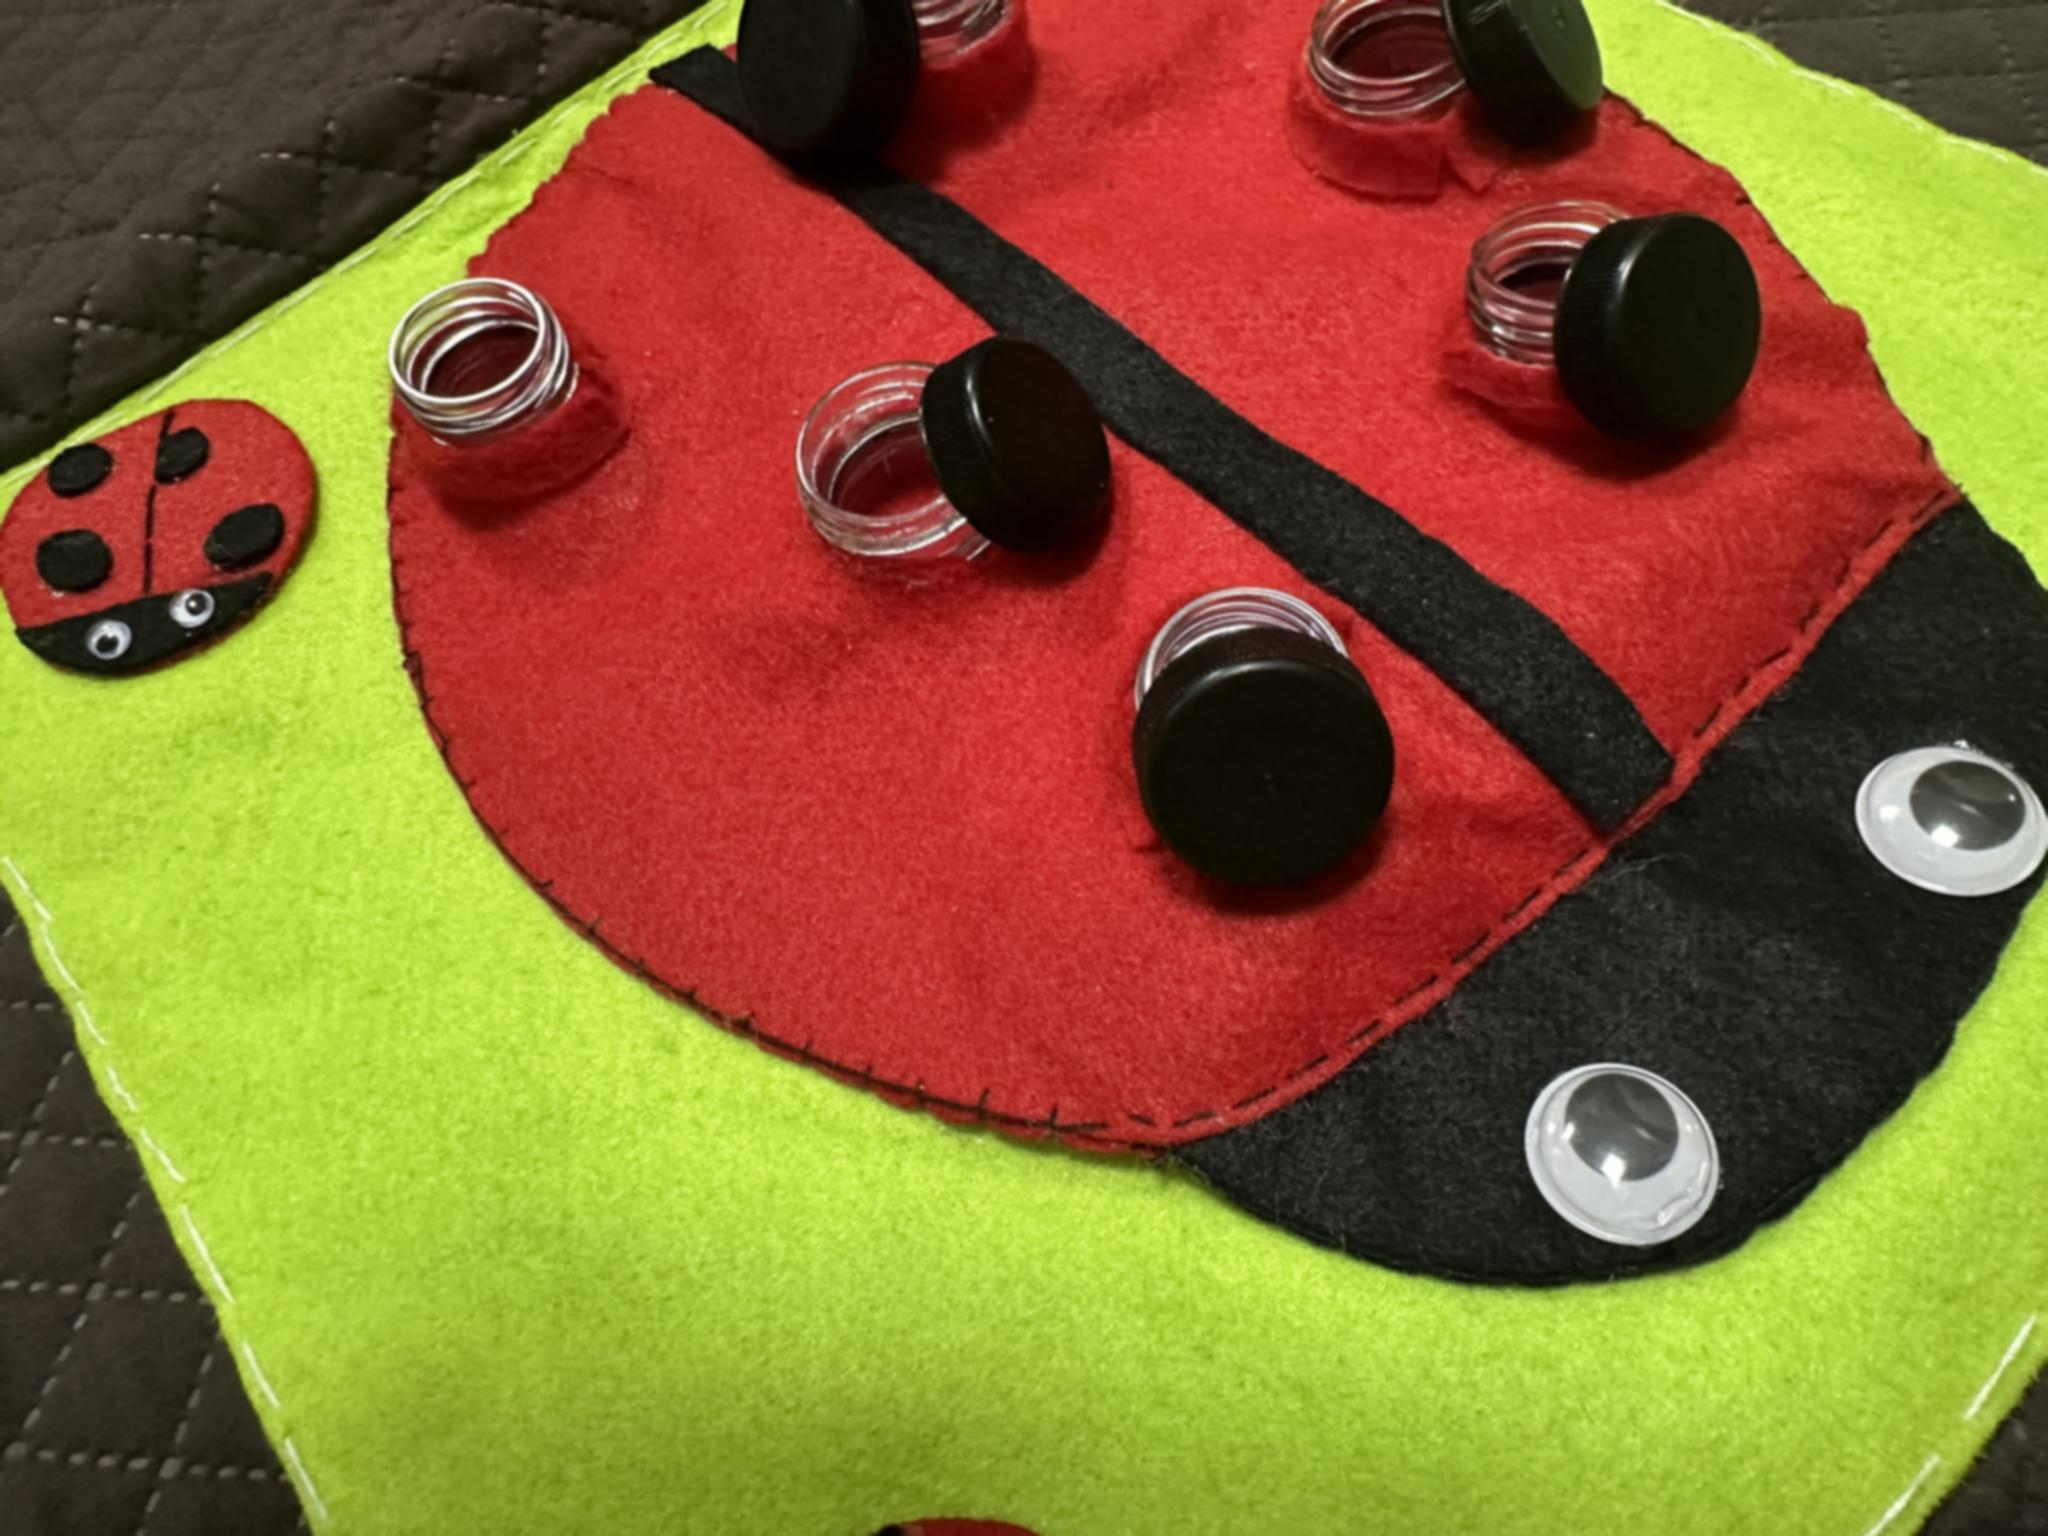cap_ng: (1090, 528, 1435, 916), (779, 305, 1147, 607), (1447, 174, 1809, 449), (1264, 0, 1650, 181), (716, 0, 1059, 194)
